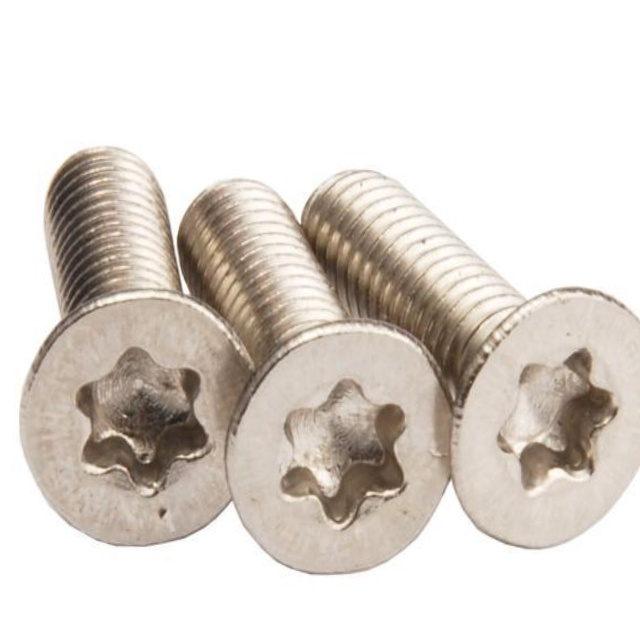torx: (72, 343, 218, 504), (275, 374, 411, 536), (498, 346, 621, 503)
